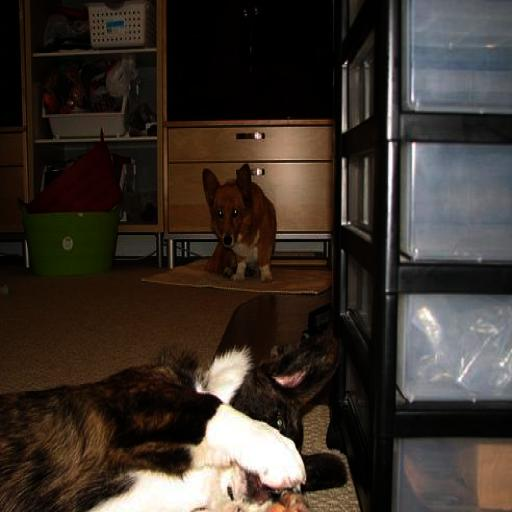dog_face: (200, 163, 254, 250)
